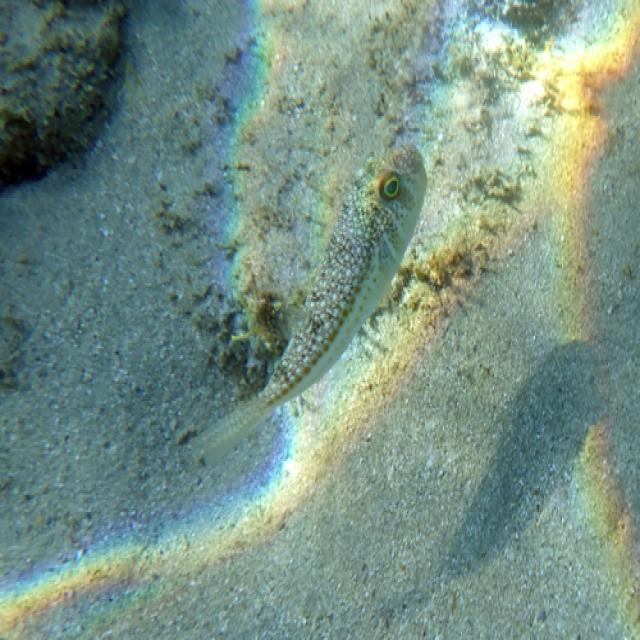Balik: (194, 146, 426, 462)
